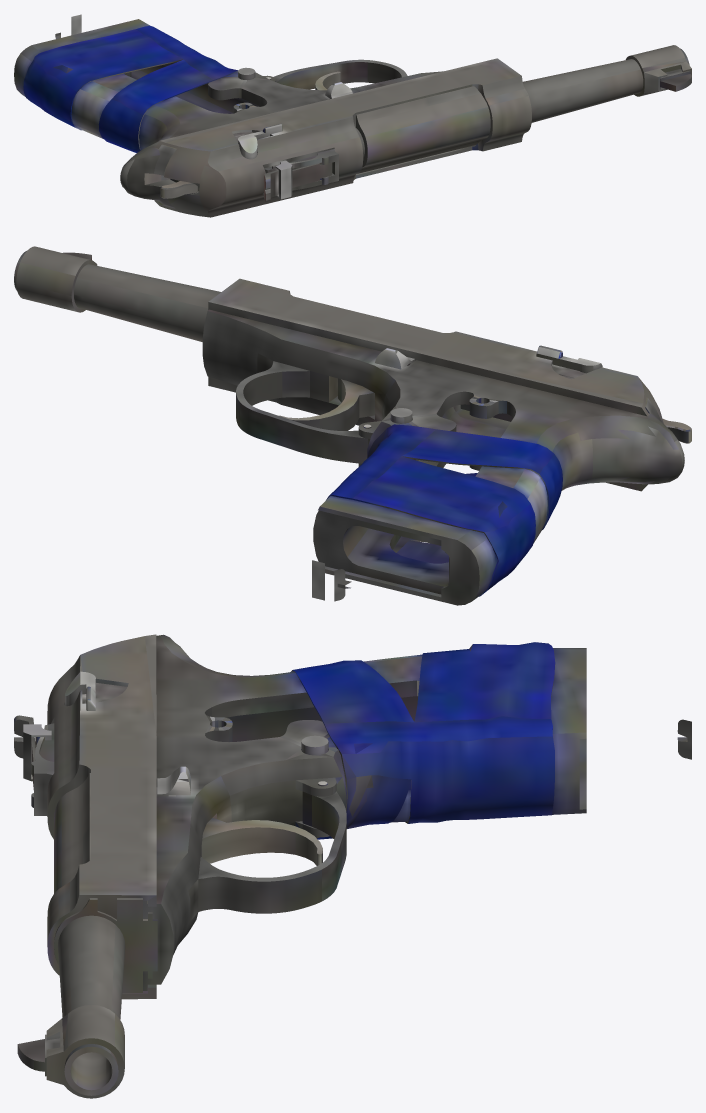
File: earth_pistol.glb
The picture shows the model from 3 angles, top to bottom: view 1: azimuth 30°, elevation 25°; view 2: azimuth 150°, elevation 25°; view 3: azimuth 270°, elevation 25°; orthographic projection. The views are drawn at different scales.
Visible parts, largest first — view 1: earth_pistol; view 2: earth_pistol; view 3: earth_pistol.
Boxes of the visible parts, box(x1,y1,x2,y2) form: earth_pistol: box(14, 14, 691, 217); earth_pistol: box(14, 246, 691, 605); earth_pistol: box(14, 634, 691, 1098).
Bounding box in the file's own units: 0.2 × 0.0263 × 0.1381.
1 material, 1 textured.
